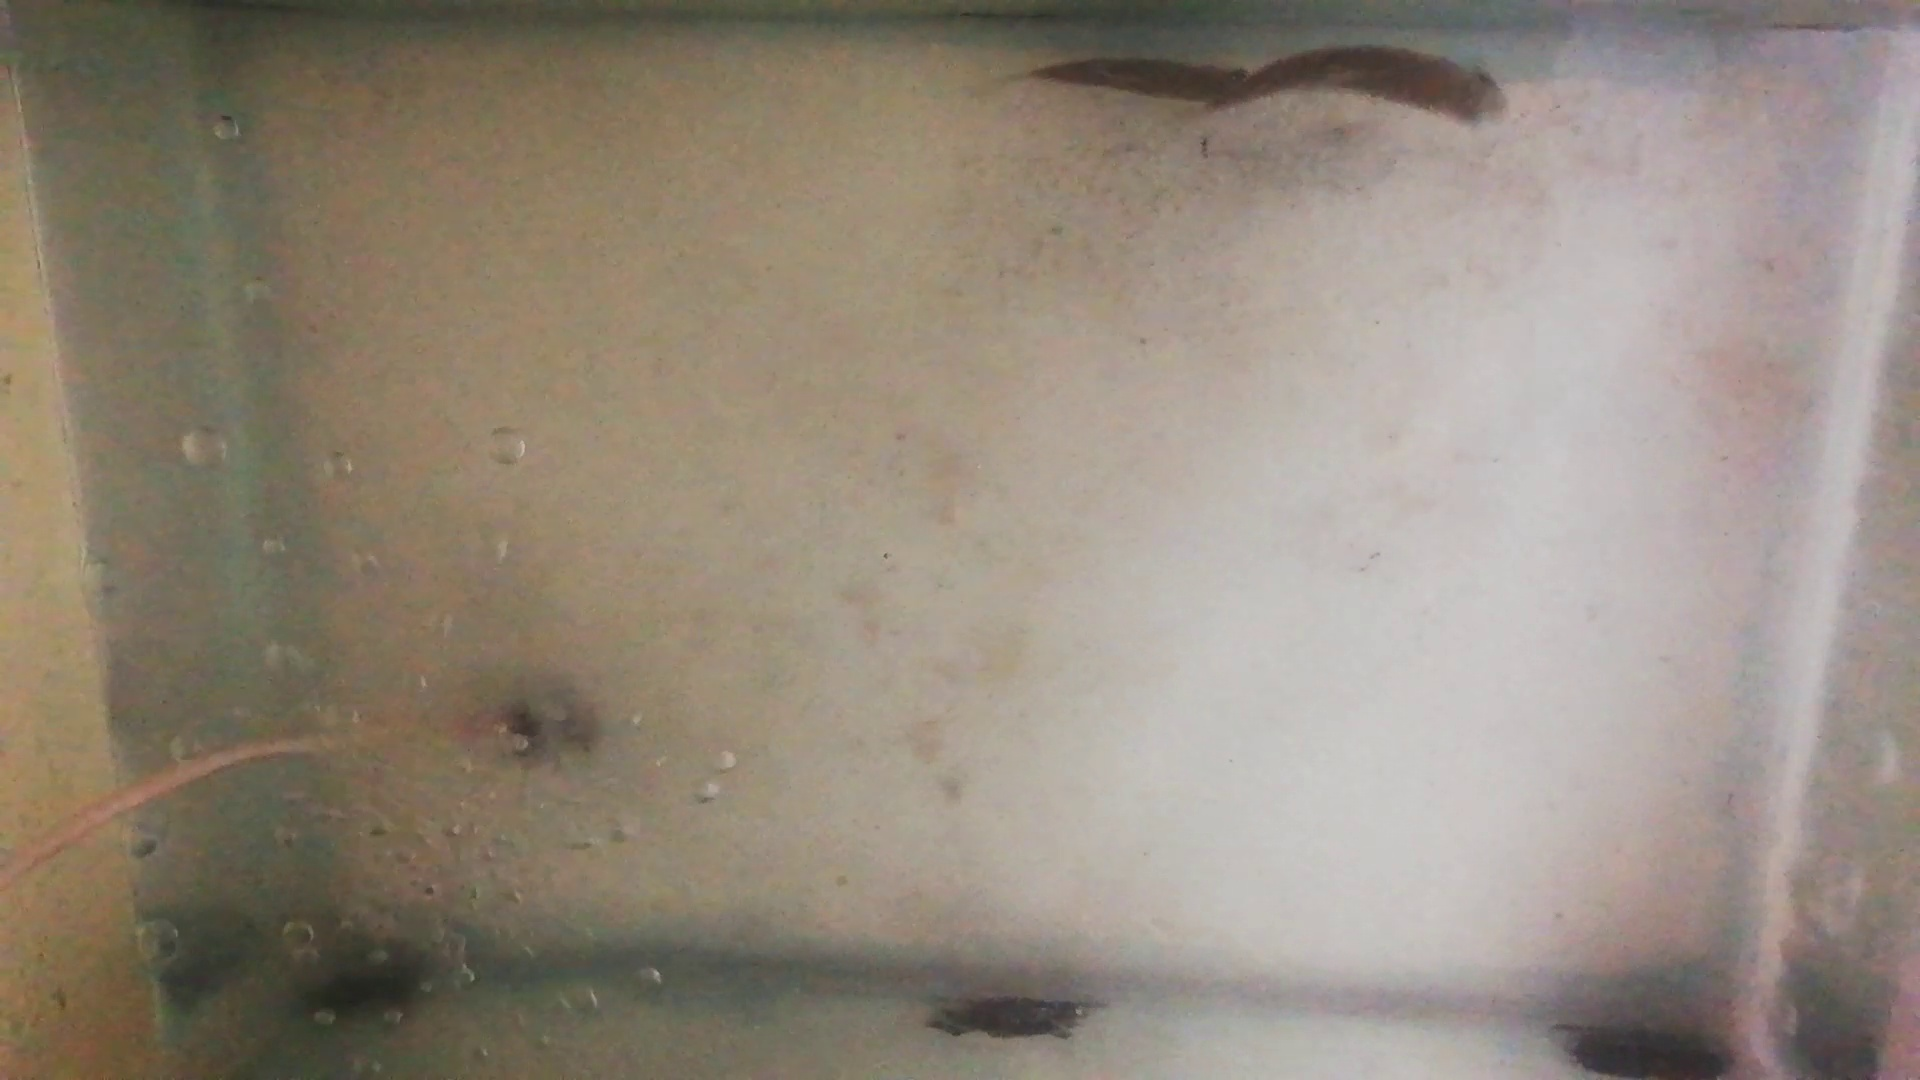fish: (1211, 41, 1509, 132), (1031, 55, 1249, 115)
